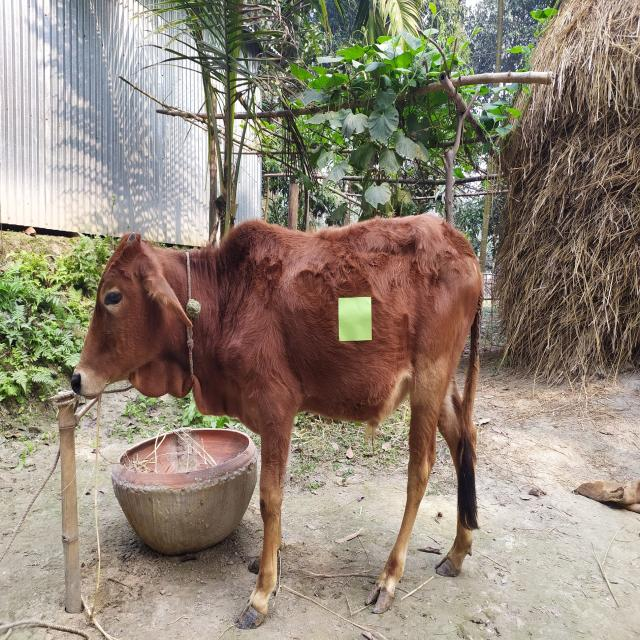badan_sapi: (217, 220, 478, 430)
sapi: (70, 207, 492, 632)
